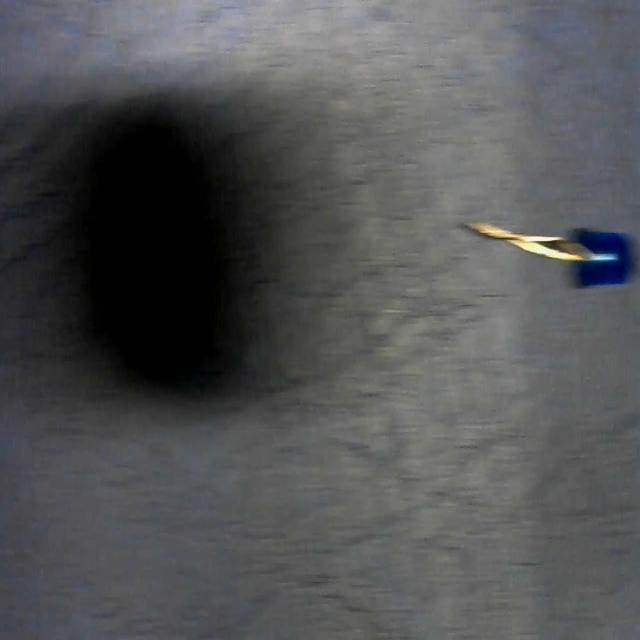LED: (463, 214, 633, 288)
